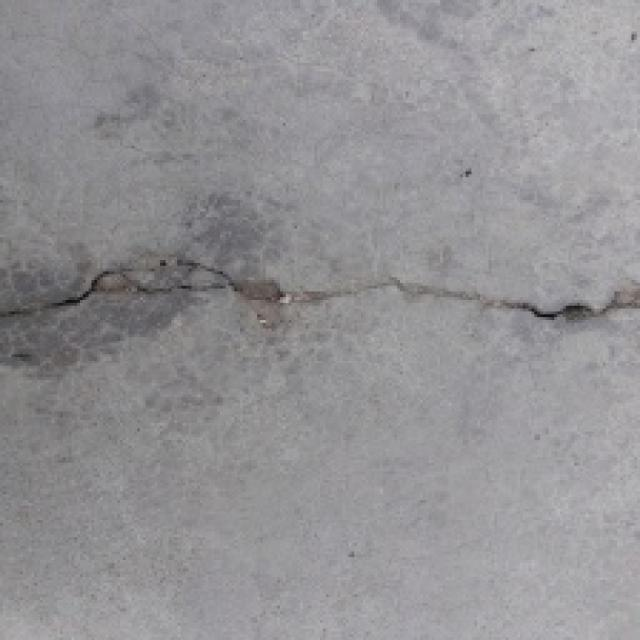SurfaceCrack: (2, 250, 640, 362)
